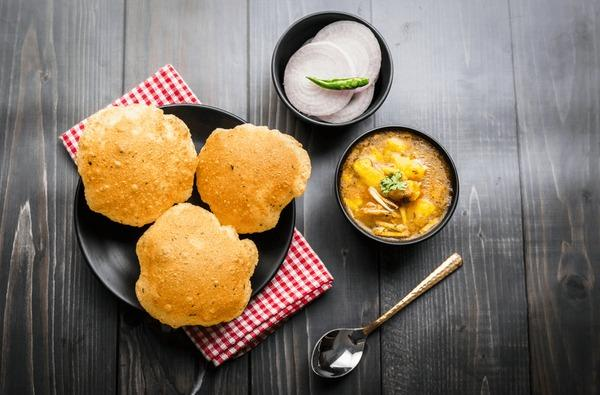puri: (71, 115, 308, 333)
